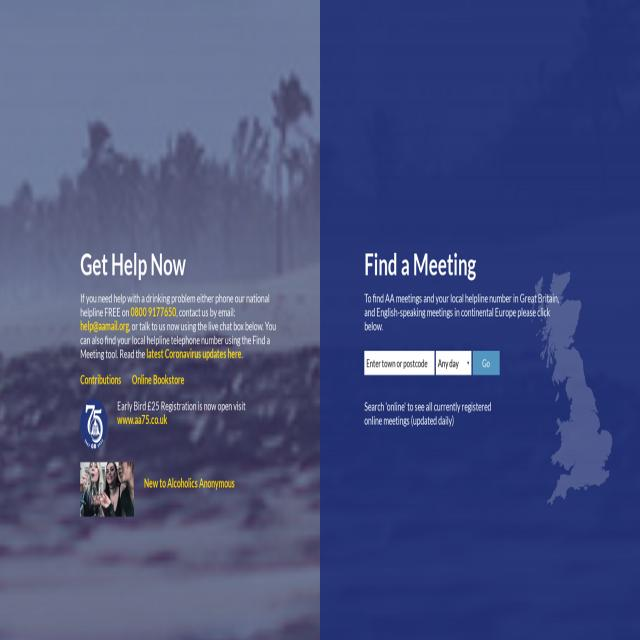button: (80, 462, 134, 516), (80, 399, 108, 450), (472, 351, 500, 375)
field: (364, 351, 434, 375), (436, 351, 471, 375)
